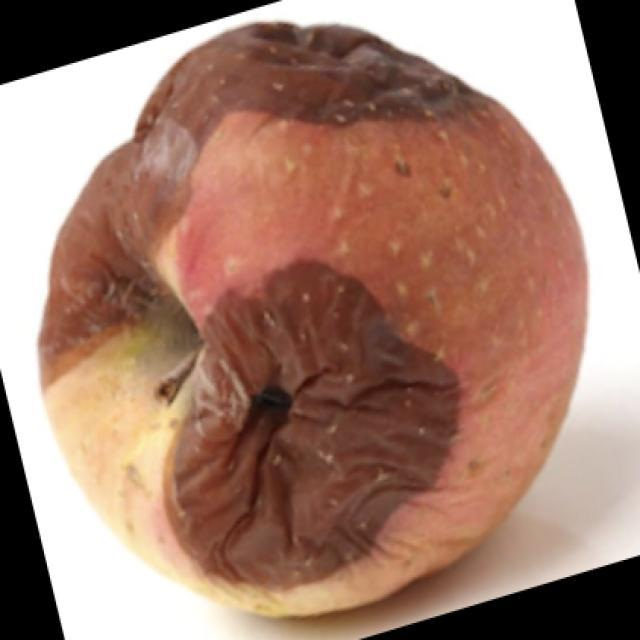Rotten: (45, 25, 583, 637)
